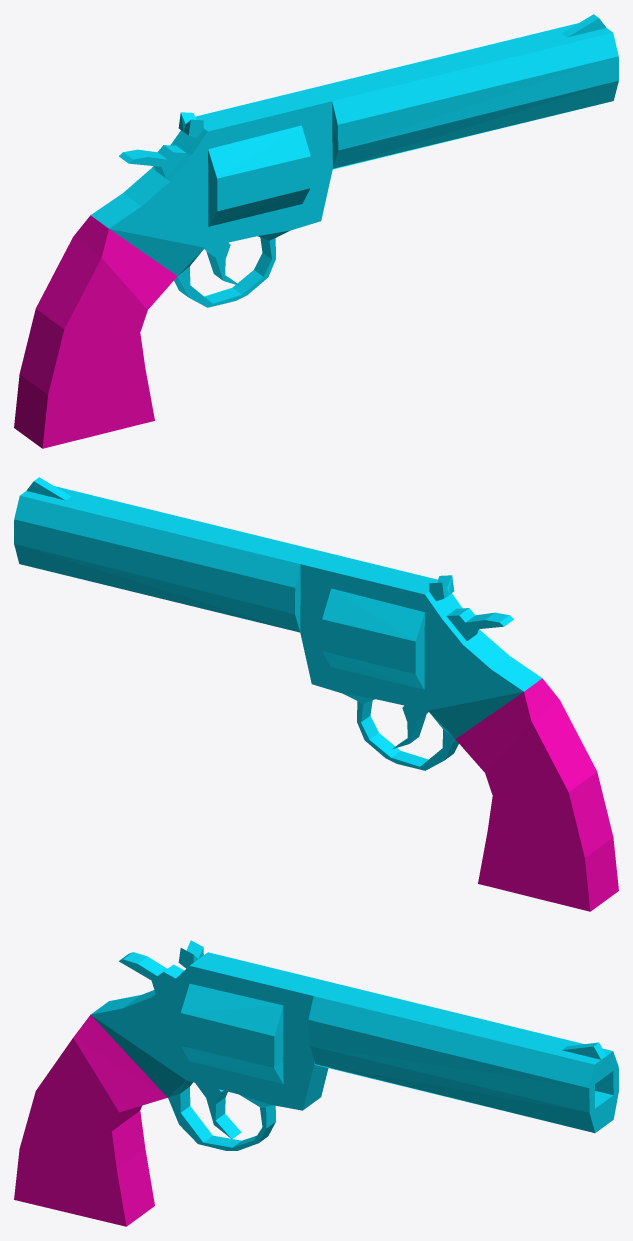
File: rebolber.fbx
The picture shows the model from 3 angles, top to bottom: view 1: azimuth 30°, elevation 25°; view 2: azimuth 150°, elevation 25°; view 3: azimuth 330°, elevation 25°; orthographic projection.
Visible parts, largest first — view 1: Plane002; view 2: Plane002; view 3: Plane002.
Part boxes in pixels (bbox=[...]): Plane002: bbox=[14, 14, 618, 448]; Plane002: bbox=[14, 477, 618, 911]; Plane002: bbox=[14, 940, 618, 1226].
Bounding box in the file's own units: 114 × 53.85 × 12.53.
